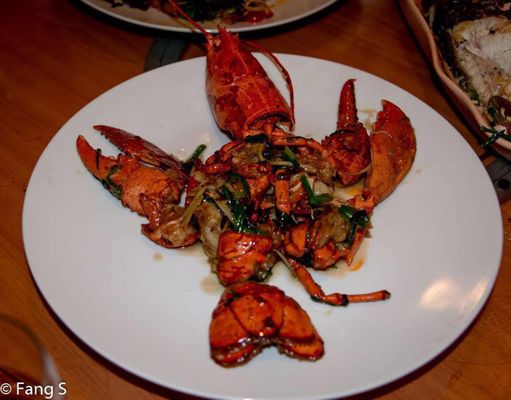curry: (3, 0, 504, 393)
